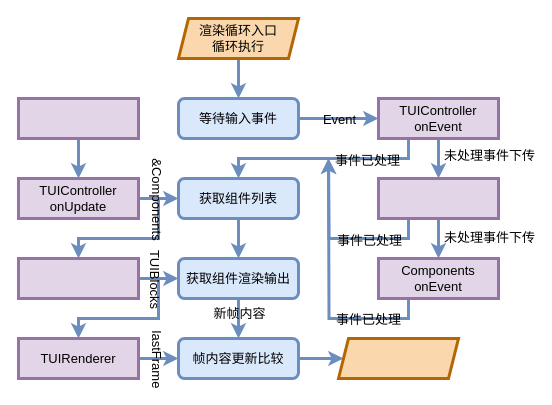
Image size: 552x405. Some labels were removed from this diagram. Here are the shapes that lost their labels. From the top down, the centre of each, then its label:
(78,118): currentPage getComponents
(438,198): currentPage onEvent
(78,278): Components Render
(398,358): 输出终端
